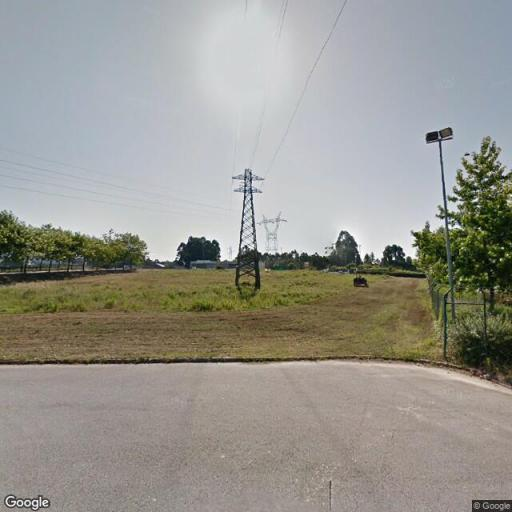ss_2: (231, 166, 267, 287)
wt_5: (258, 213, 287, 260)
